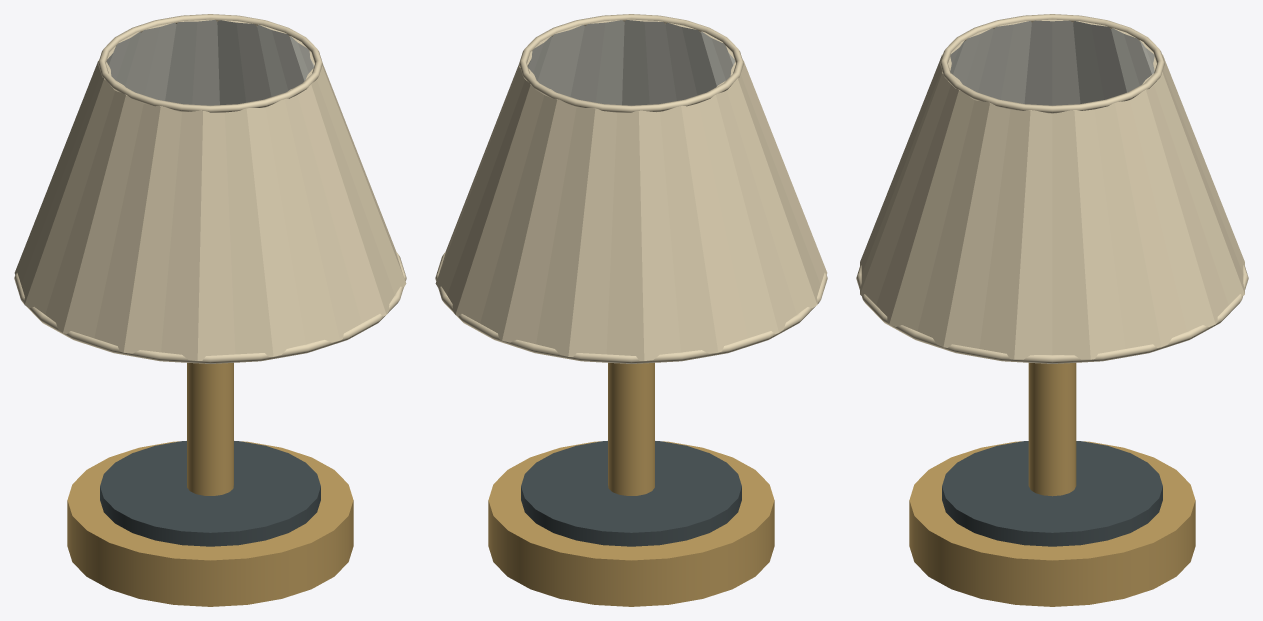
Rendered from lamp_bedside.glb.
3 renders of one model, left to right at view 1: azimuth 30°, elevation 25°; view 2: azimuth 150°, elevation 25°; view 3: azimuth 270°, elevation 25°, orthographic.
Visible parts, largest first — view 1: Bedside_Lamp_Fabric_Shade, Bedside_Lamp_Base, Bedside_Lamp_Base_Inset, Bedside_Lamp_Stem, Bedside_Lamp_Upper_Shade_Hem, Bedside_Lamp_Lower_Shade_Hem; view 2: Bedside_Lamp_Fabric_Shade, Bedside_Lamp_Base, Bedside_Lamp_Base_Inset, Bedside_Lamp_Stem, Bedside_Lamp_Upper_Shade_Hem, Bedside_Lamp_Lower_Shade_Hem; view 3: Bedside_Lamp_Fabric_Shade, Bedside_Lamp_Base, Bedside_Lamp_Base_Inset, Bedside_Lamp_Stem, Bedside_Lamp_Upper_Shade_Hem, Bedside_Lamp_Lower_Shade_Hem.
Boxes of the visible parts, box(x1,y1,x2,y2) form: Bedside_Lamp_Fabric_Shade: box(14, 19, 406, 360); Bedside_Lamp_Base: box(67, 441, 353, 606); Bedside_Lamp_Base_Inset: box(100, 441, 320, 546); Bedside_Lamp_Stem: box(187, 363, 233, 495); Bedside_Lamp_Upper_Shade_Hem: box(98, 14, 322, 112); Bedside_Lamp_Lower_Shade_Hem: box(14, 252, 406, 363); Bedside_Lamp_Fabric_Shade: box(435, 19, 827, 360); Bedside_Lamp_Base: box(488, 441, 774, 606); Bedside_Lamp_Base_Inset: box(521, 441, 741, 546); Bedside_Lamp_Stem: box(608, 363, 654, 495); Bedside_Lamp_Upper_Shade_Hem: box(519, 14, 743, 112); Bedside_Lamp_Lower_Shade_Hem: box(435, 252, 827, 363); Bedside_Lamp_Fabric_Shade: box(860, 19, 1244, 359); Bedside_Lamp_Base: box(909, 441, 1195, 606); Bedside_Lamp_Base_Inset: box(942, 441, 1162, 546); Bedside_Lamp_Stem: box(1028, 363, 1076, 496); Bedside_Lamp_Upper_Shade_Hem: box(940, 14, 1164, 113); Bedside_Lamp_Lower_Shade_Hem: box(856, 265, 1248, 363).
Size of the model in its own units: 0.398 by 0.5435 by 0.398.
